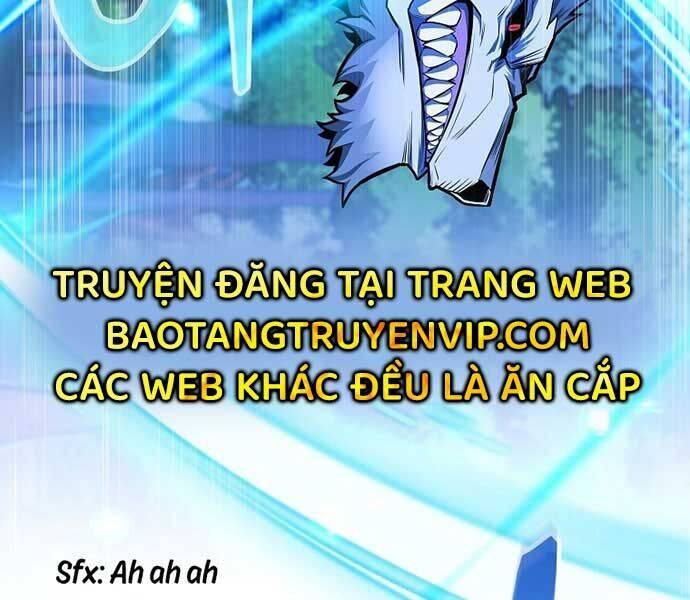quangcao: (51, 258, 646, 407)
